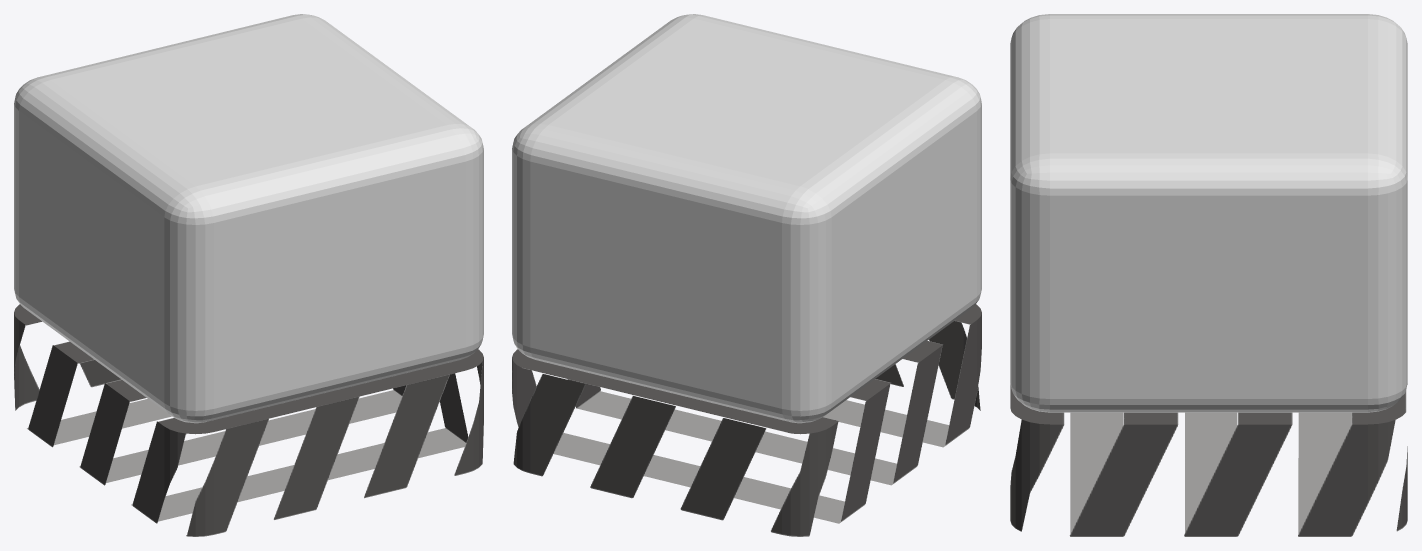
Rendered from Unit-Grey.fbx.
3 views of the same model, side by side, from view 1: azimuth 30°, elevation 25°; view 2: azimuth 150°, elevation 25°; view 3: azimuth 270°, elevation 25° (orthographic). The views are drawn at different scales.
Visible parts, largest first — view 1: Cube.003, Cube.002; view 2: Cube.003, Cube.002; view 3: Cube.003, Cube.002.
Boxes of the visible parts, x1,y1,x2,y2 form: Cube.003: [14, 14, 483, 423]; Cube.002: [14, 304, 483, 536]; Cube.003: [512, 14, 981, 423]; Cube.002: [512, 304, 981, 536]; Cube.003: [1010, 14, 1407, 412]; Cube.002: [1010, 384, 1407, 536].
Size of the model in its own units: 200 by 204 by 200.
Materials: 2 (1 with a texture image).
